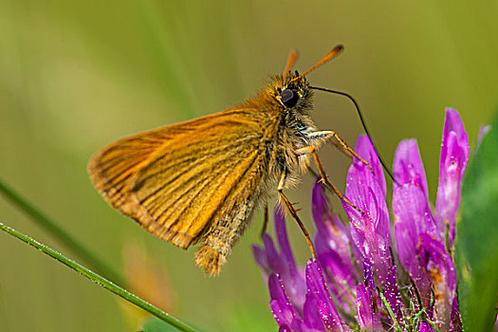Hesperiidae: (84, 38, 381, 279)
